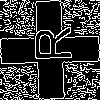R: (25, 25, 72, 63)
